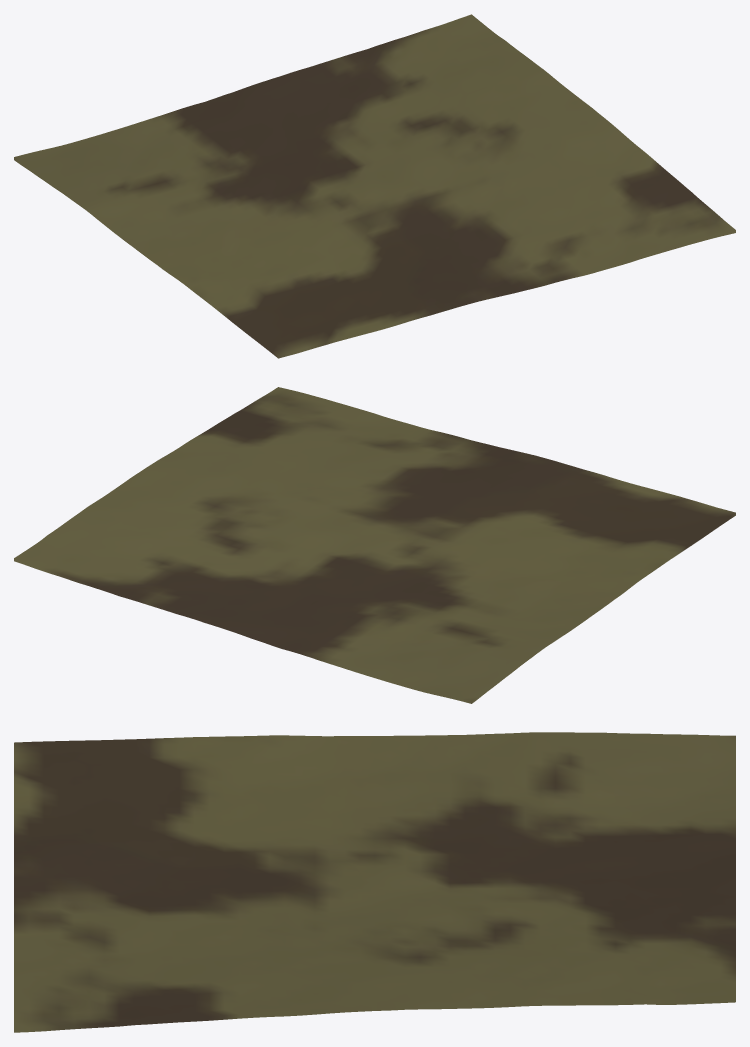
The model's file is land_m_07_11.glb.
3 renders of one model, top to bottom at view 1: azimuth 30°, elevation 25°; view 2: azimuth 150°, elevation 25°; view 3: azimuth 270°, elevation 25°, orthographic. The views are drawn at different scales.
Parts seen in each view (by area): view 1: land_m_07_11; view 2: land_m_07_11; view 3: land_m_07_11.
Boxes of the visible parts, x1,y1,x2,y2 form: land_m_07_11: [14, 14, 735, 358]; land_m_07_11: [14, 387, 735, 703]; land_m_07_11: [14, 732, 735, 1032].
Bounding box in the file's own units: 960 × 78.3 × 960.
